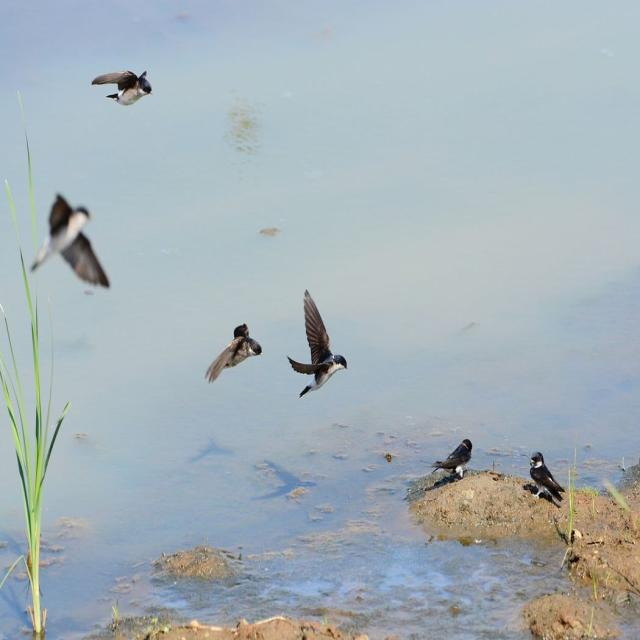bird: (34, 192, 114, 294), (288, 294, 349, 392), (207, 324, 266, 386), (520, 453, 570, 508), (93, 69, 157, 111), (430, 438, 474, 484)
